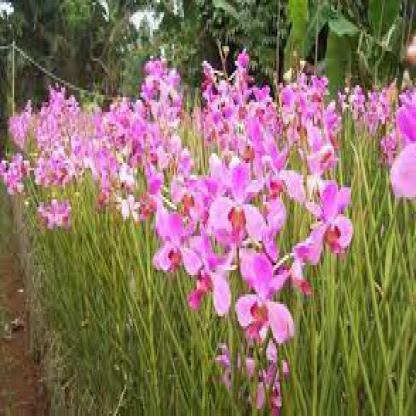ANGGREK: (12, 55, 410, 364)
